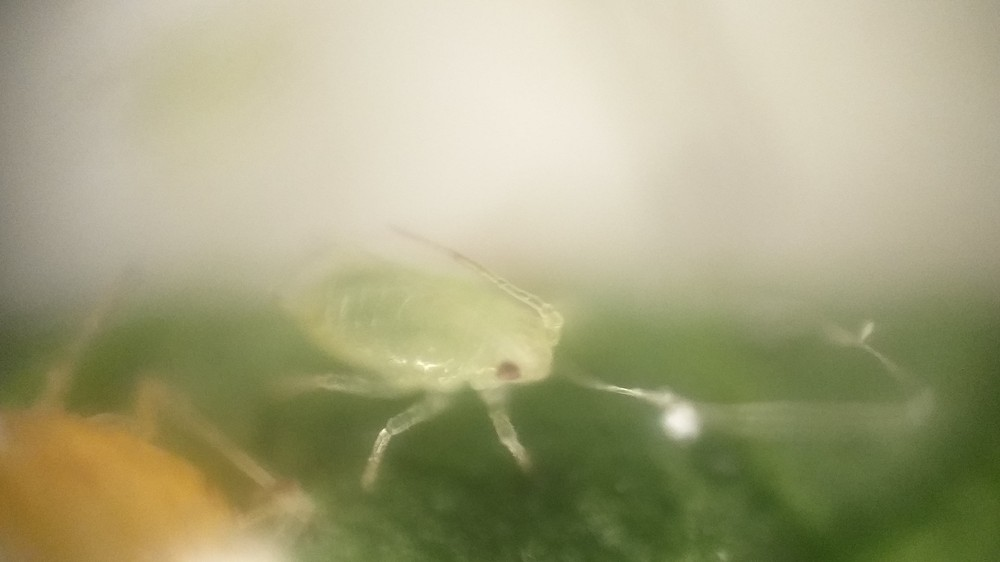Pulgon: (258, 223, 626, 492)
